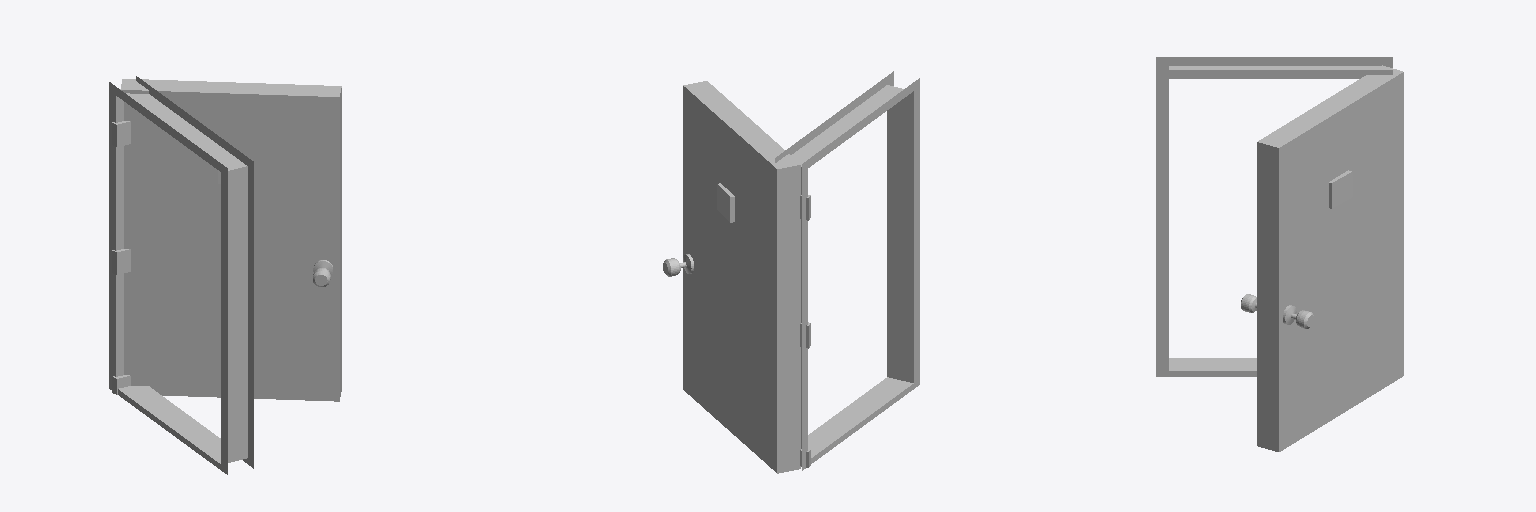
File: Door_0_Open15.obj
3 views of the same model, side by side, from view 1: azimuth 30°, elevation 25°; view 2: azimuth 150°, elevation 25°; view 3: azimuth 270°, elevation 25° (orthographic).
Visible parts, largest first — view 1: Door.001, Frame_Door.001; view 2: Door.001, Frame_Door.001; view 3: Door.001, Frame_Door.001.
Boxes of the visible parts, <box> form: Door.001: <box>120,79,341,401</box>; Frame_Door.001: <box>109,76,253,474</box>; Door.001: <box>663,81,800,473</box>; Frame_Door.001: <box>775,71,919,470</box>; Door.001: <box>1241,65,1403,451</box>; Frame_Door.001: <box>1156,57,1392,376</box>.
Bounding box in the file's own units: 0.7579 × 1.21 × 0.8806.